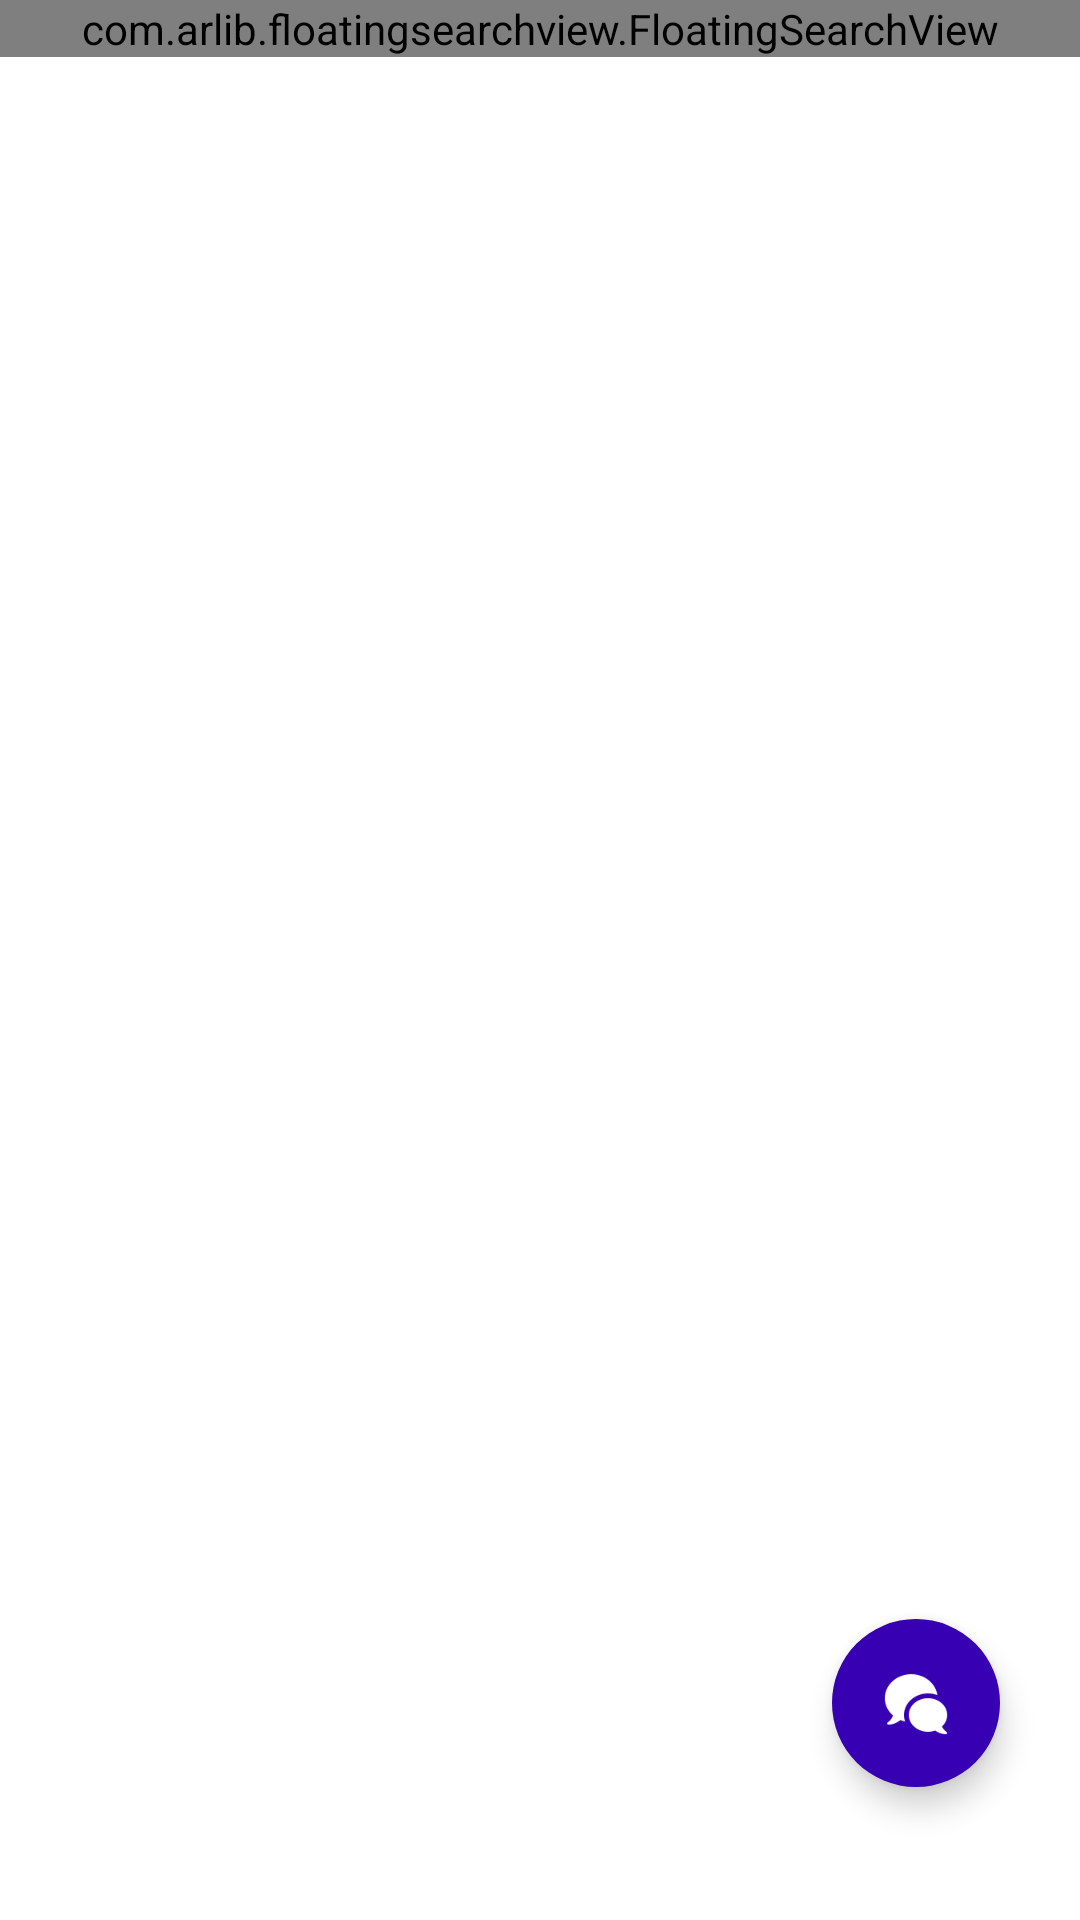

Where to tap for icons on this 1080px×1920px app screen, as [x,y]:
chat: [916,1703]
